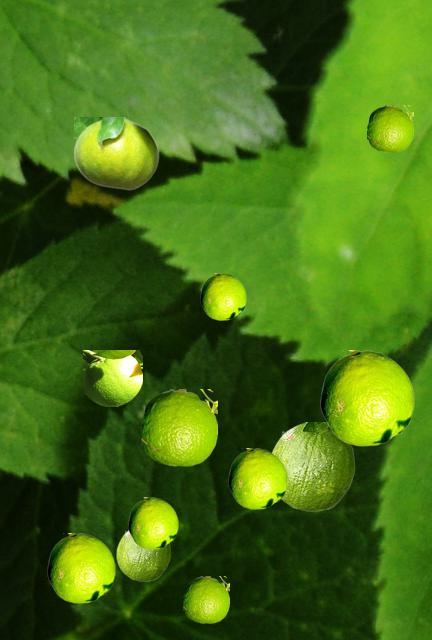dalandan: (320, 350, 413, 445), (271, 422, 355, 510), (74, 117, 158, 189), (141, 389, 216, 465), (47, 533, 114, 602), (228, 448, 286, 508), (83, 350, 141, 405), (116, 530, 171, 580), (128, 497, 177, 548), (367, 105, 412, 151), (183, 576, 228, 622), (200, 273, 245, 319)
